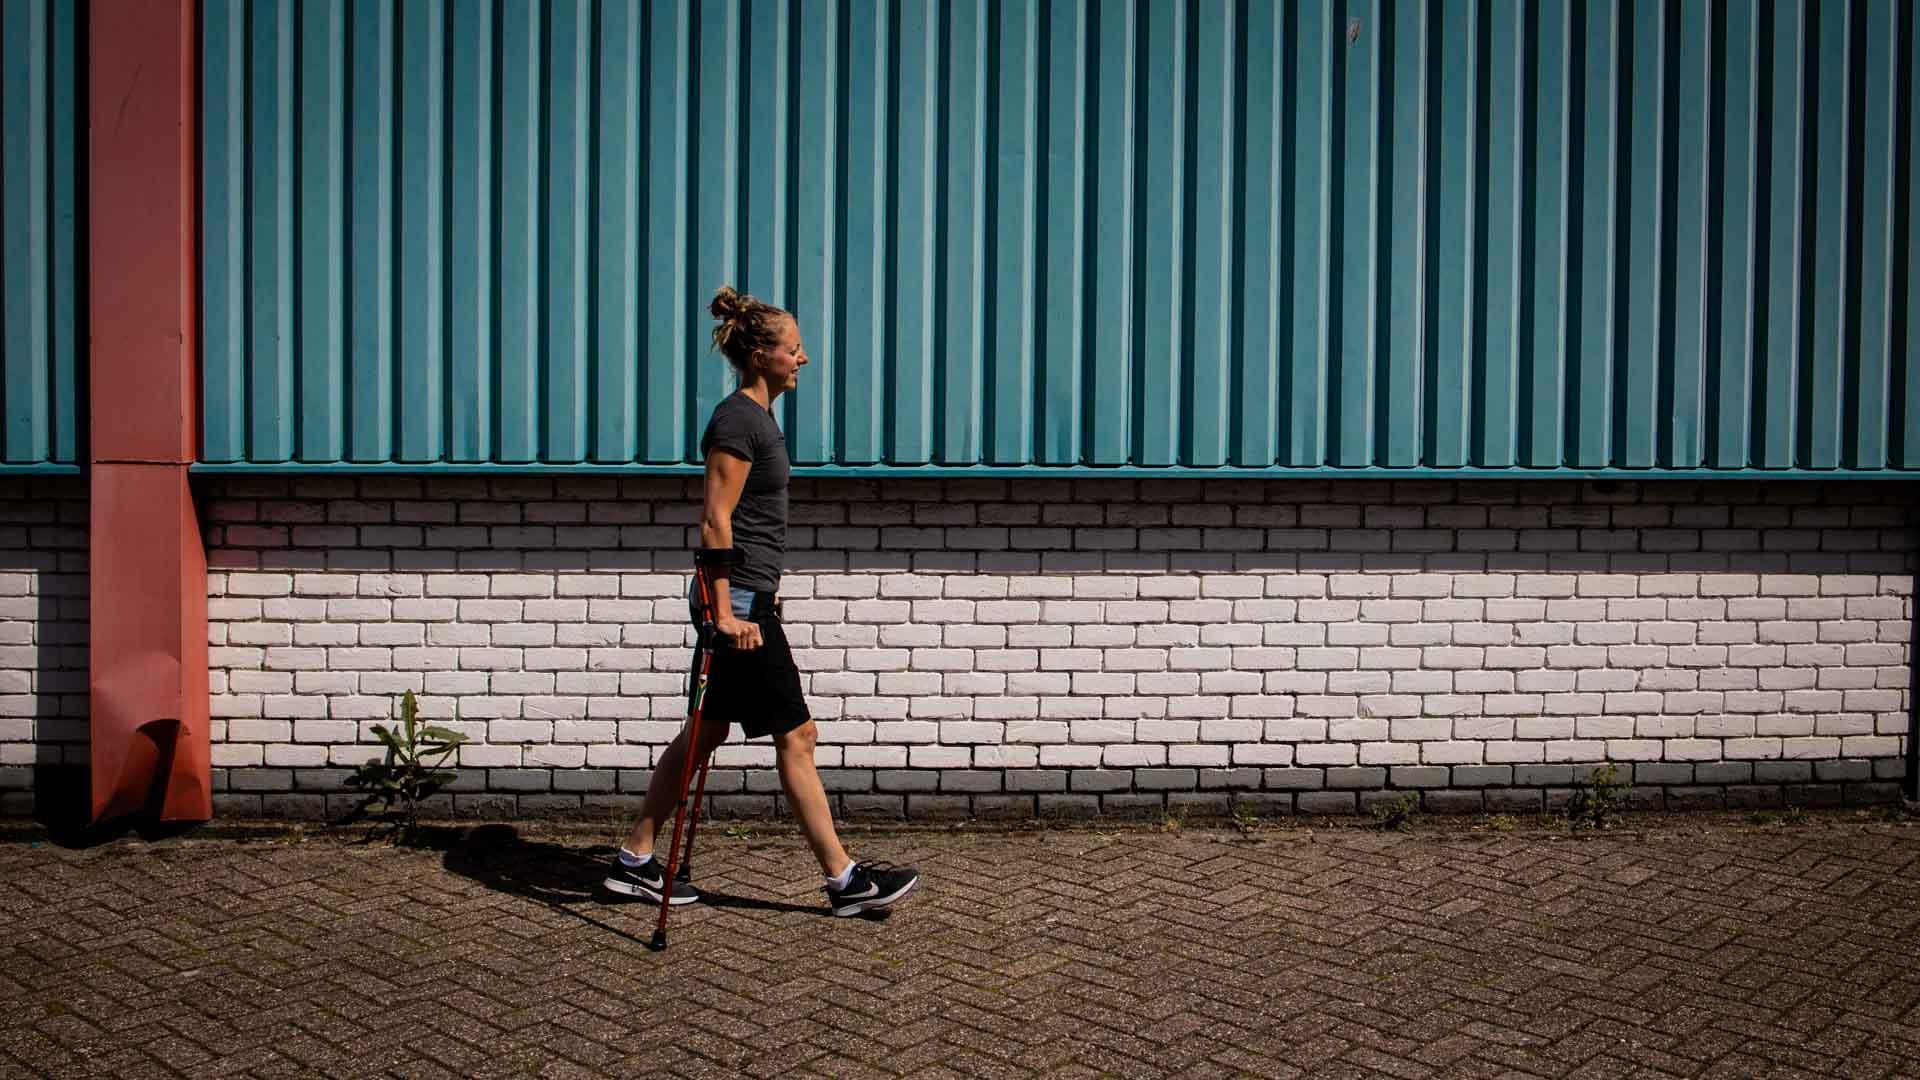crutches: (593, 264, 927, 972)
